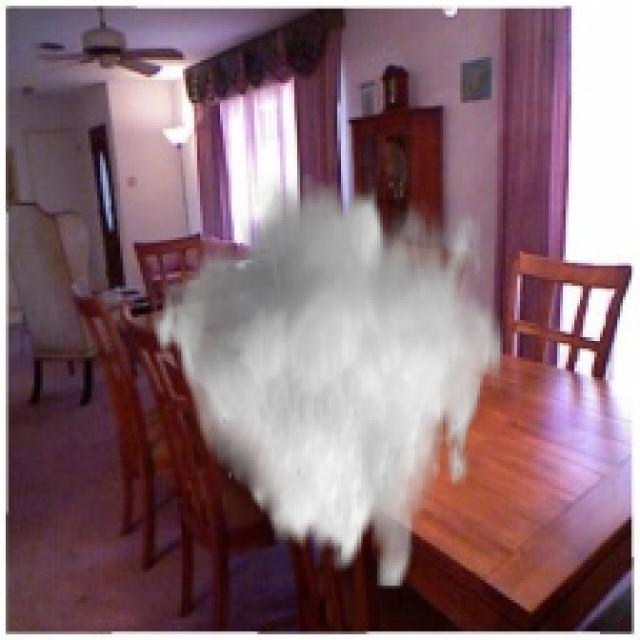smoke: (146, 174, 503, 589)
